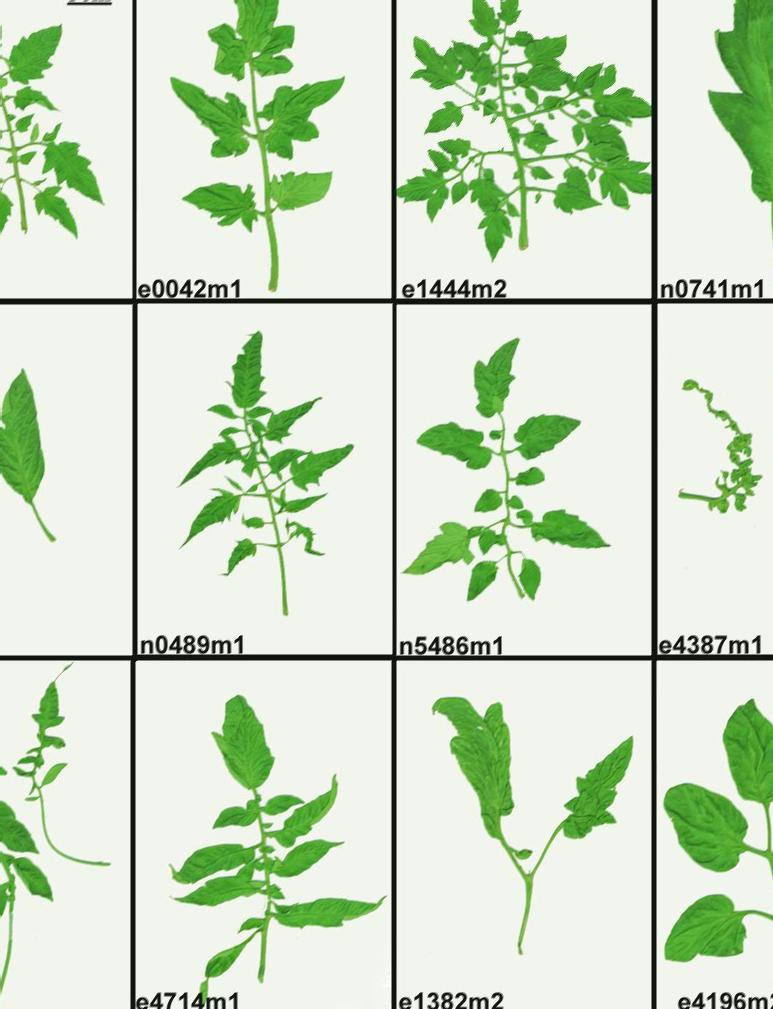Tomato leaf: (685, 0, 773, 206), (165, 75, 248, 161), (257, 68, 344, 149), (208, 0, 291, 83), (254, 171, 348, 223), (222, 320, 277, 408), (471, 321, 514, 426), (501, 412, 590, 461)
